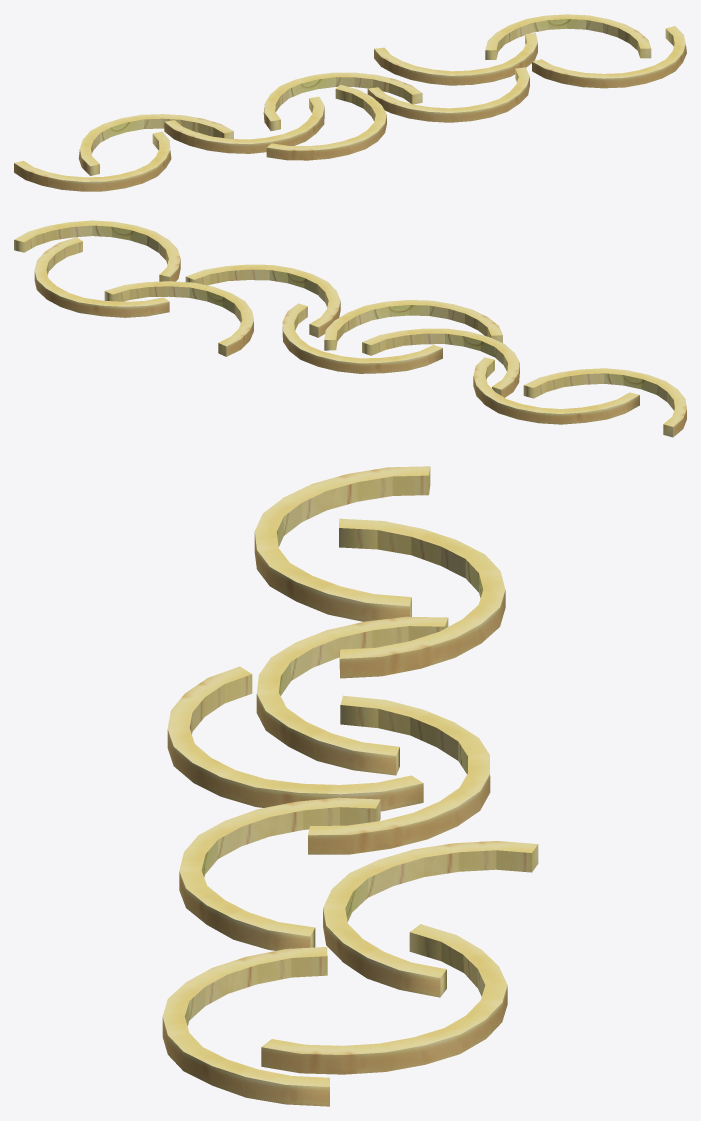
The model's file is sogan_ekmek.fbx.
The picture shows the model from 3 angles, top to bottom: view 1: azimuth 30°, elevation 25°; view 2: azimuth 150°, elevation 25°; view 3: azimuth 270°, elevation 25°; orthographic projection. The views are drawn at different scales.
Parts seen in each view (by area): view 1: sogan_ekmek; view 2: sogan_ekmek; view 3: sogan_ekmek.
Part boxes in pixels (bbox=[...]): sogan_ekmek: bbox=[14, 14, 686, 191]; sogan_ekmek: bbox=[14, 220, 686, 437]; sogan_ekmek: bbox=[162, 466, 538, 1106].
Size of the model in its own units: 63.94 by 0.9493 by 16.35.
